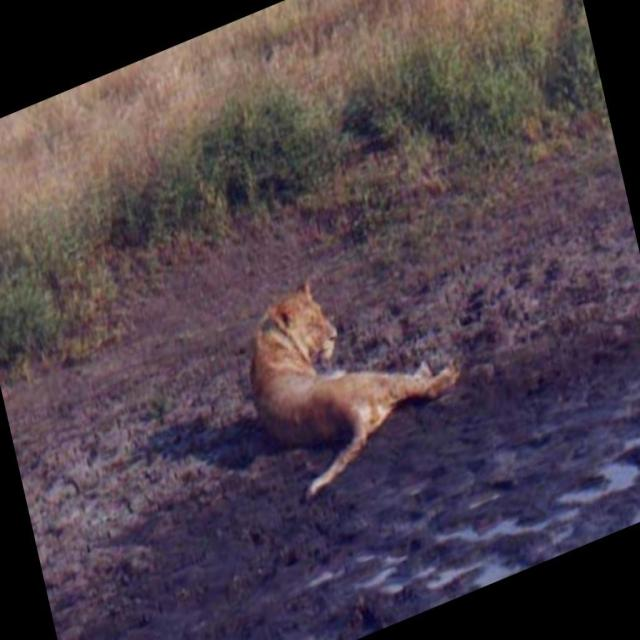Lion: (234, 227, 474, 511)
